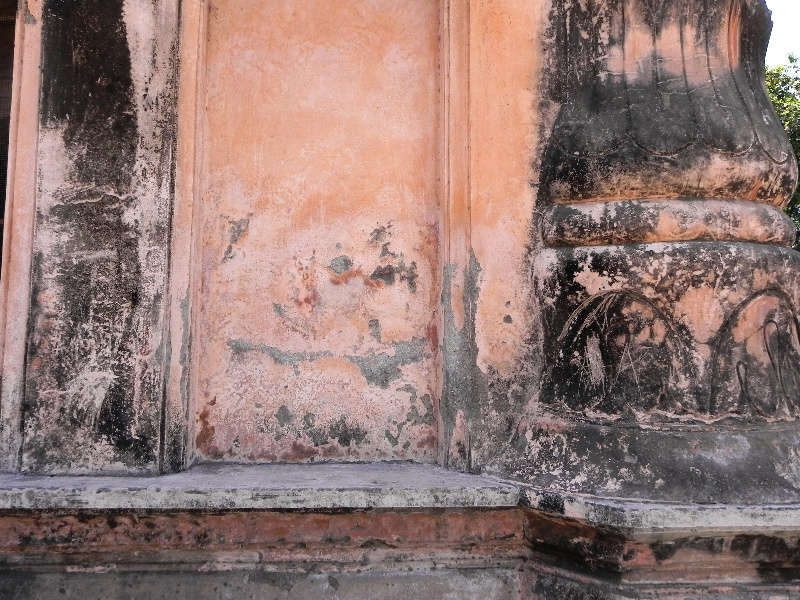Spalling: (350, 332, 431, 391)
